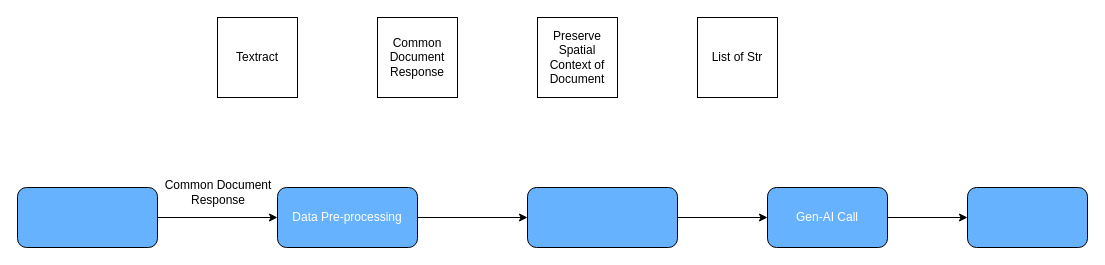
The diagram is 1105 pixels wide and 265 high, and some of its shapes have lost their labels. The shapes that lost their labels are listed below. From the top down, each one's centre as x and y in pixels, then its label:
[87,217]: Email attachment
[602,217]: Prompt + {Data}
[1027,217]: Invoice
